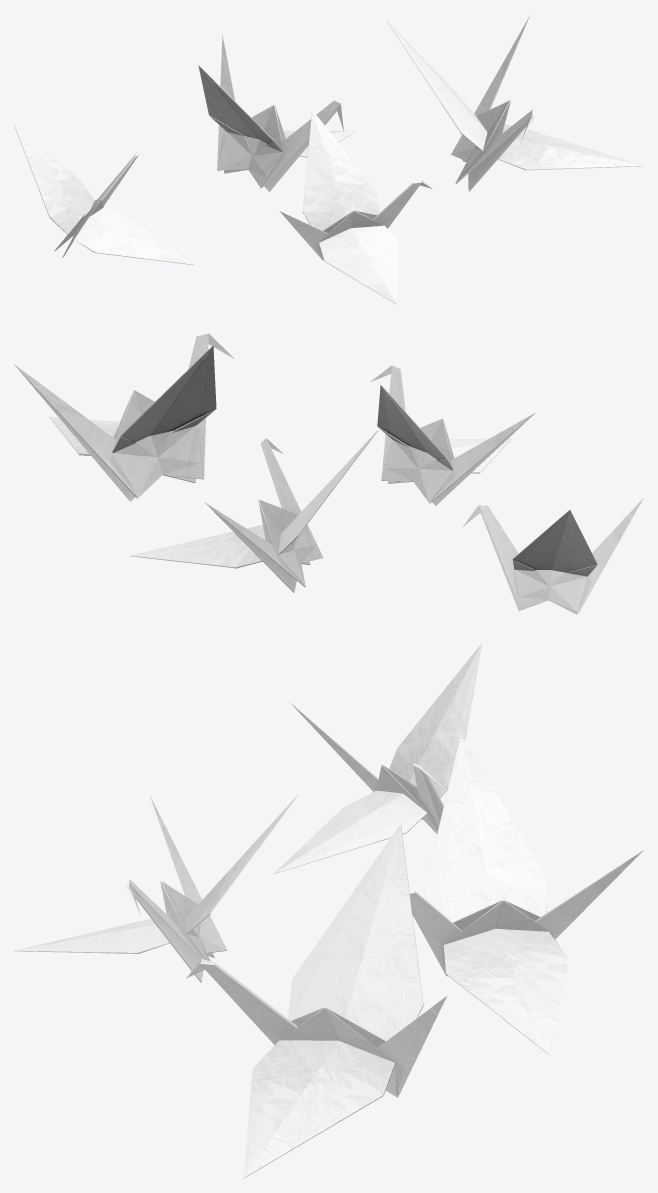
The model's file is 3d_origami_crane.glb.
3 views of the same model, one above another, from view 1: azimuth 30°, elevation 25°; view 2: azimuth 150°, elevation 25°; view 3: azimuth 270°, elevation 25° (orthographic). The views are drawn at different scales.
Visible parts, largest first — view 1: Object_3.002, Object_3.001, Object_3.003, Object_3; view 2: Object_3.001, Object_3, Object_3.003, Object_3.002; view 3: Object_3.001, Object_3, Object_3.003, Object_3.002.
Part boxes in pixels (left/top/right/bottom): Object_3.002: left=279, top=110, right=432, bottom=304; Object_3.001: left=387, top=14, right=643, bottom=191; Object_3.003: left=14, top=125, right=193, bottom=264; Object_3: left=198, top=35, right=355, bottom=191; Object_3.001: left=14, top=333, right=234, bottom=501; Object_3: left=130, top=430, right=378, bottom=592; Object_3.003: left=462, top=498, right=643, bottom=614; Object_3.002: left=370, top=365, right=534, bottom=505; Object_3.001: left=186, top=824, right=446, bottom=1178; Object_3: left=409, top=734, right=643, bottom=1054; Object_3.003: left=273, top=643, right=481, bottom=874; Object_3.002: left=14, top=795, right=297, bottom=982.
Size of the model in its own units: 7.15 by 1.99 by 5.06.
1 material, 1 textured.
